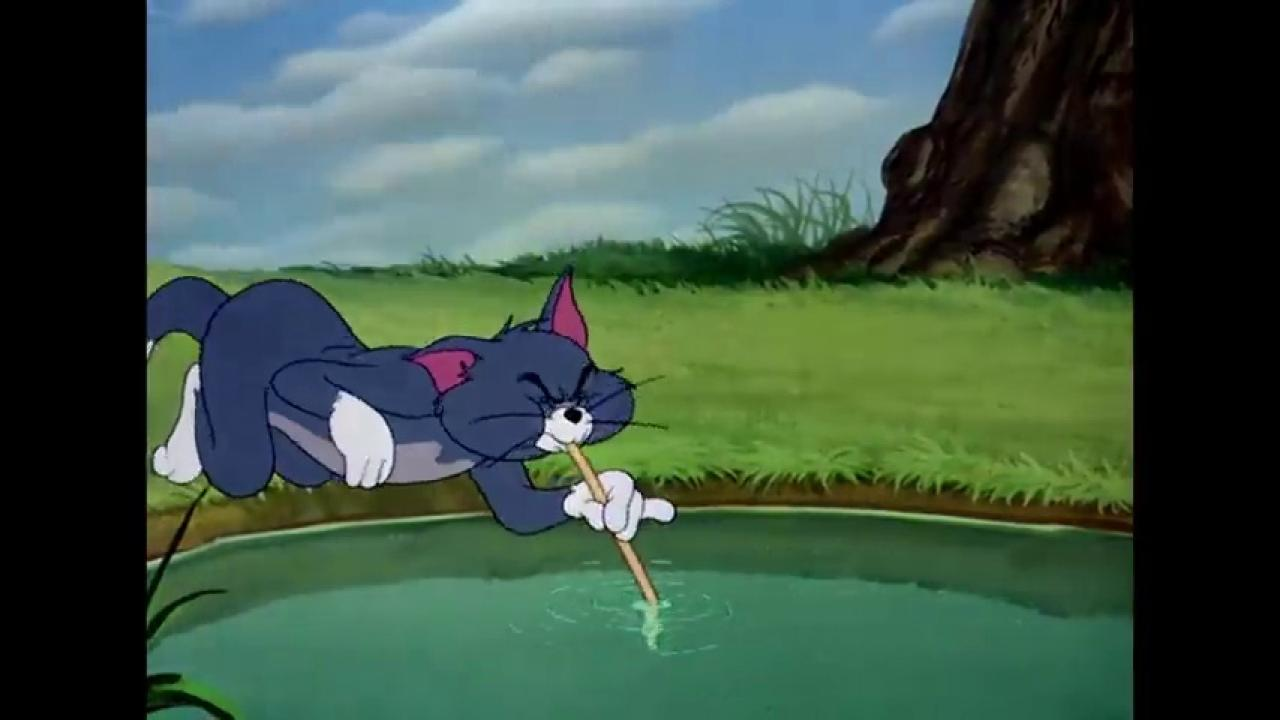Tom: (147, 264, 679, 542)
